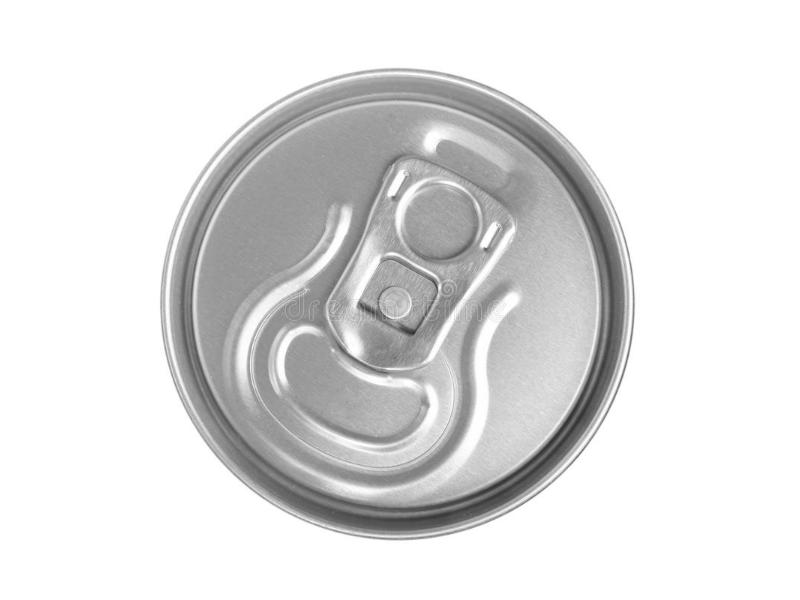can: (149, 54, 647, 553)
